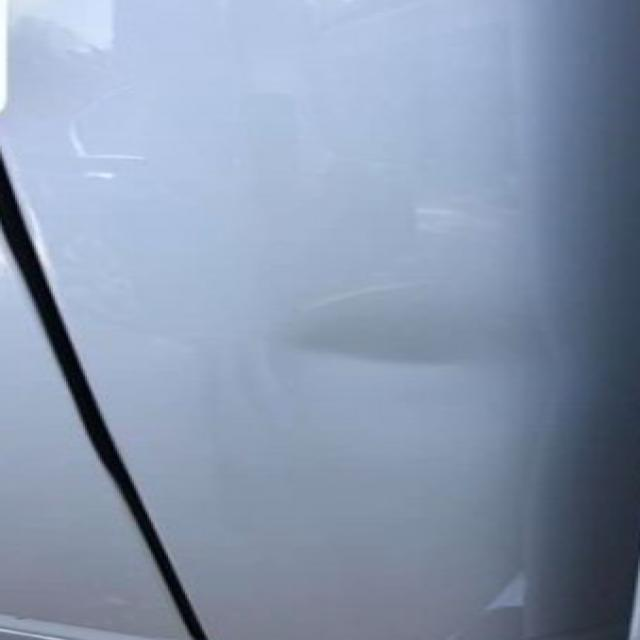dents: (246, 280, 584, 404)
